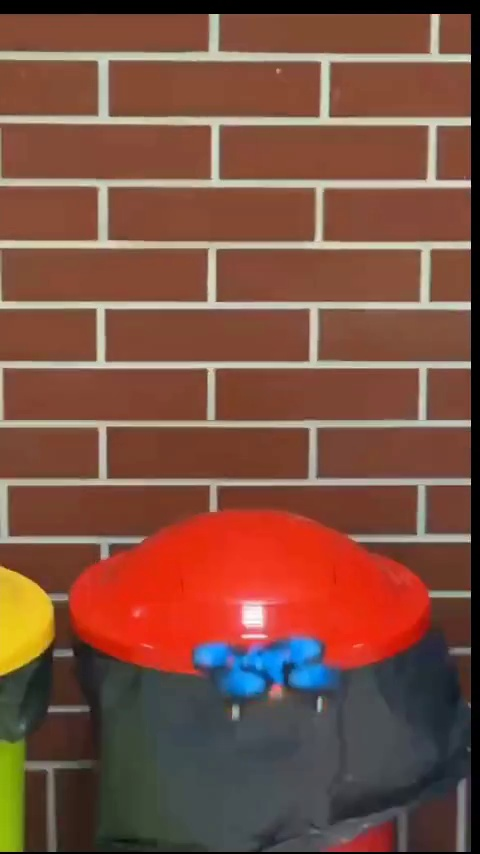drone: (192, 637, 338, 713)
